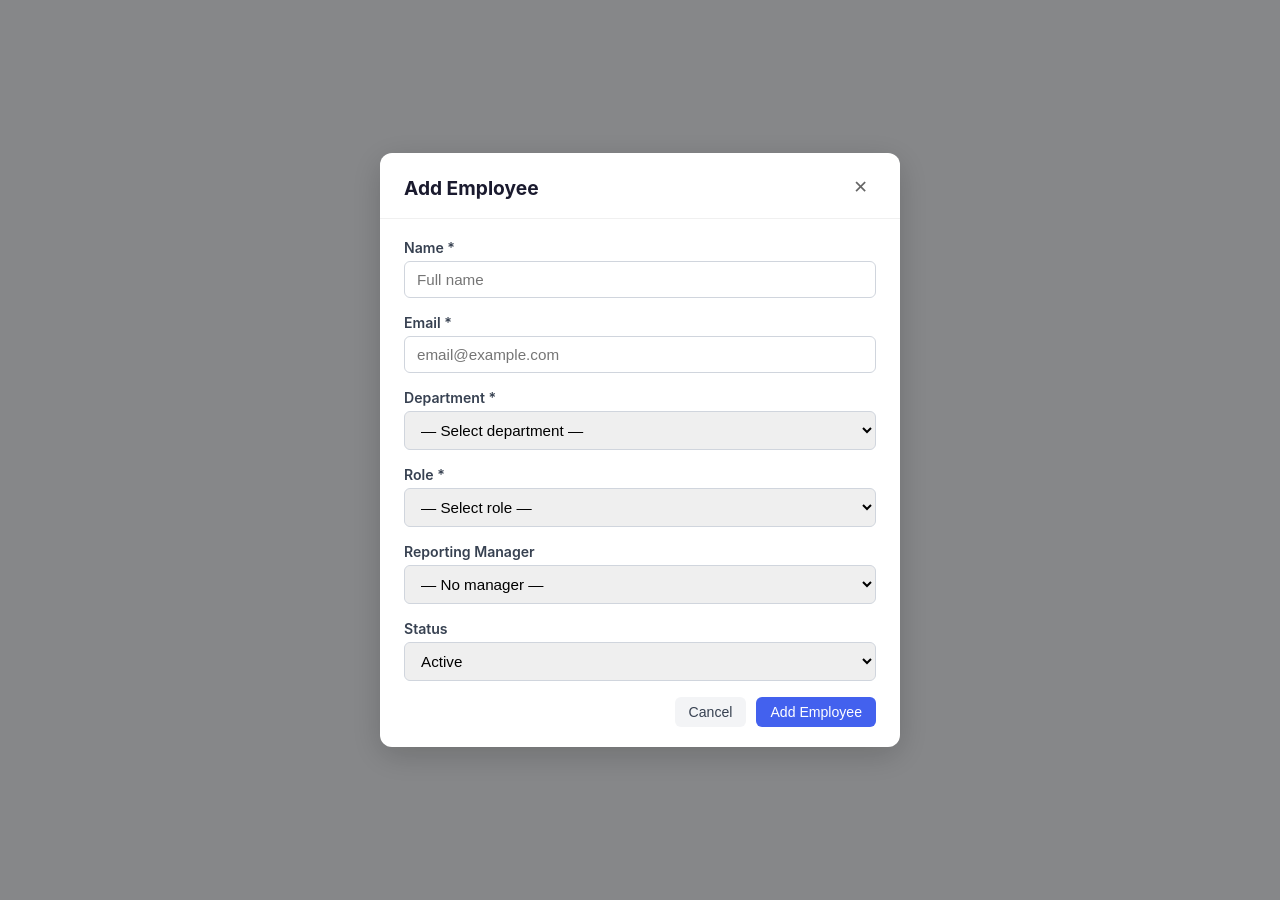
Test: EmployeeForm — validation › shows validation errors when form is submitted empty
Click the button "Add Employee". click: (816, 712)
box: [756,697,876,727]
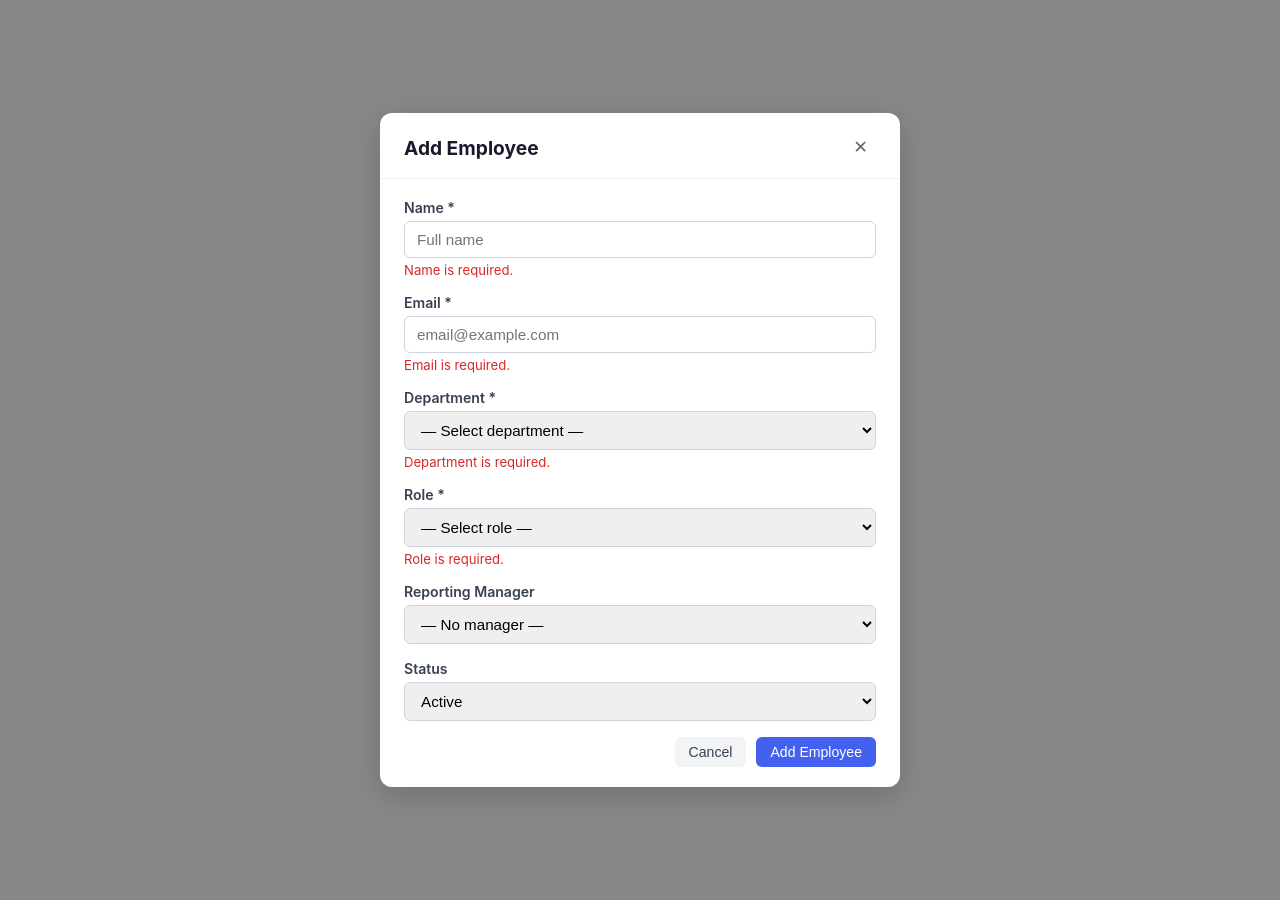
Expected: the text "Name is required." is shown, [404,262,513,278]
Expected: the text "Email is required." is shown, [404,357,510,373]
Expected: the text "Department is required." is shown, [404,454,550,470]
